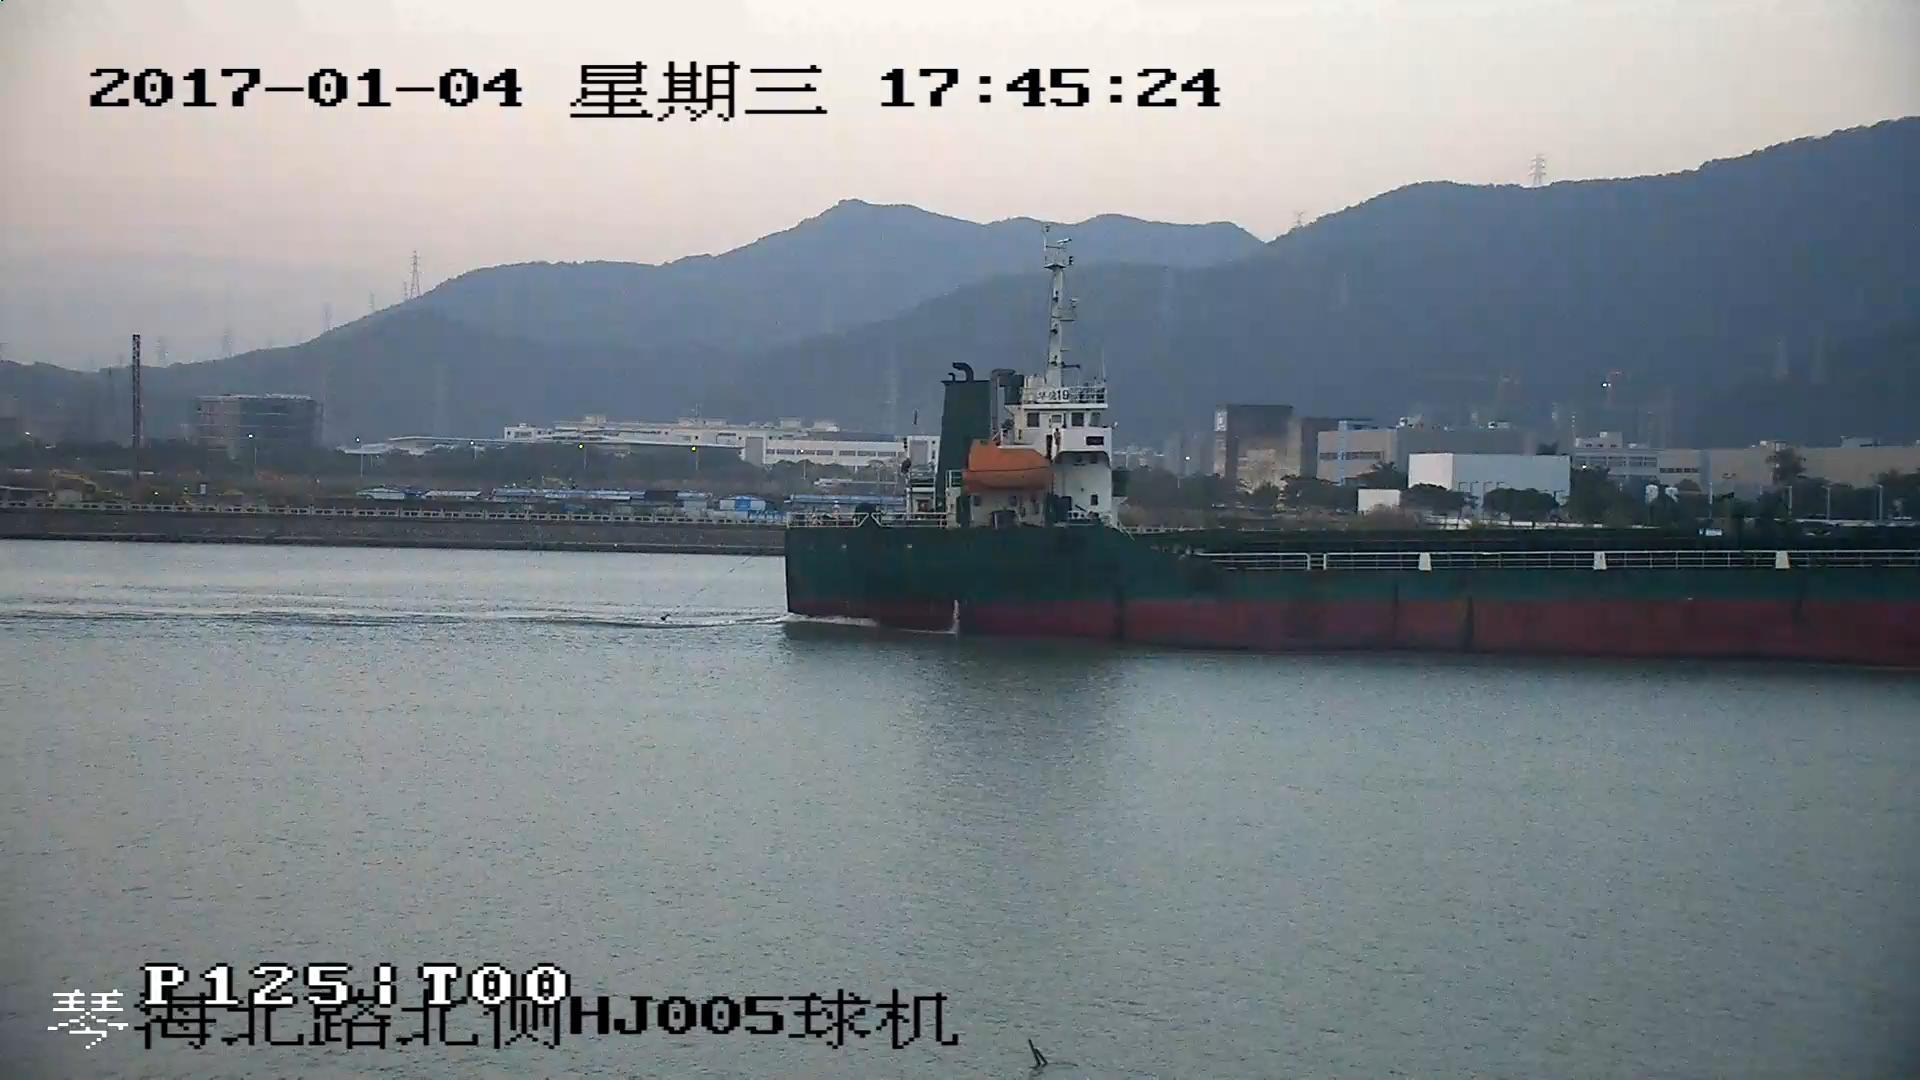Ship: (786, 233, 1920, 663)
